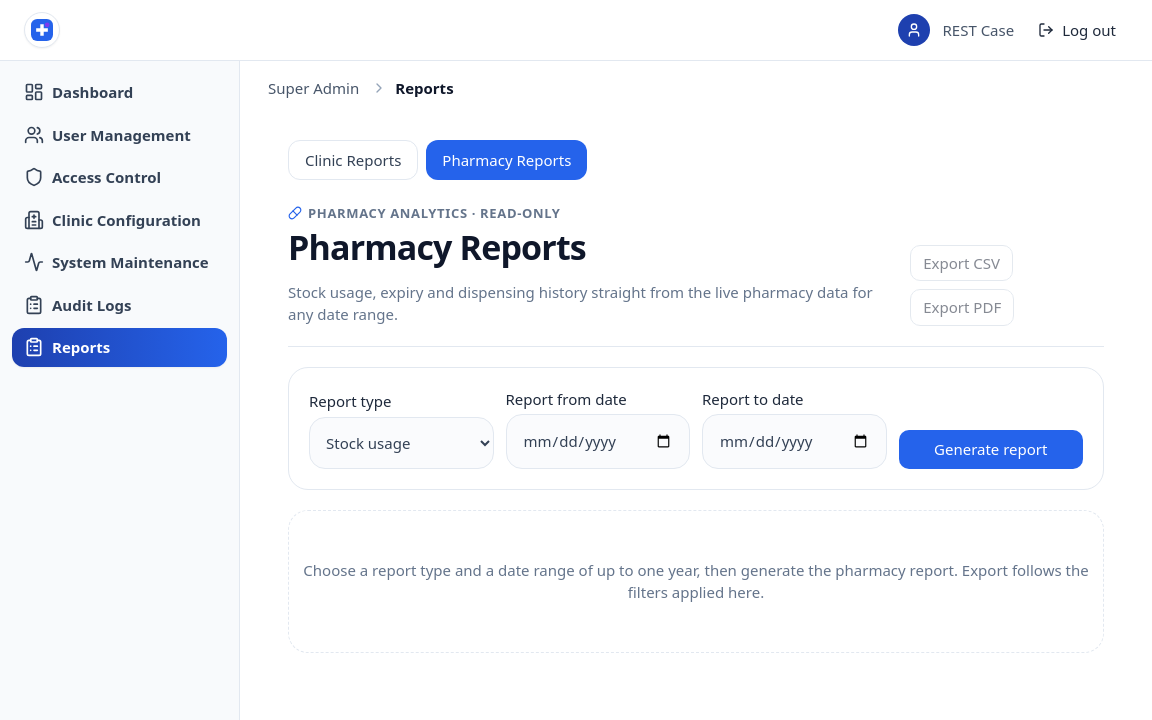
Scenario: pharmacy reports page — REST cases › generates the stock usage report with the applied filters
The image size is (1152, 720).
Type "2026-10-01" into the date field labelled "Report from date" at [598, 441], box [506, 414, 690, 469]
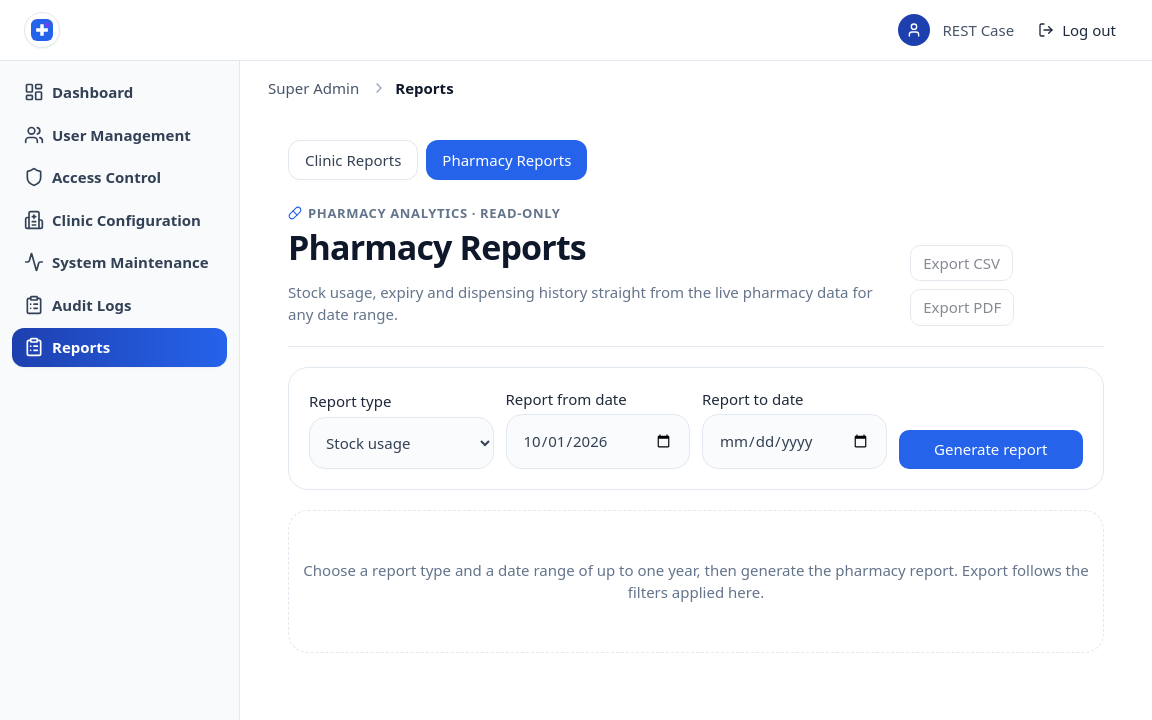
Type "2026-10-18" into the date field labelled "Report to date" at [794, 441], box [702, 414, 886, 469]
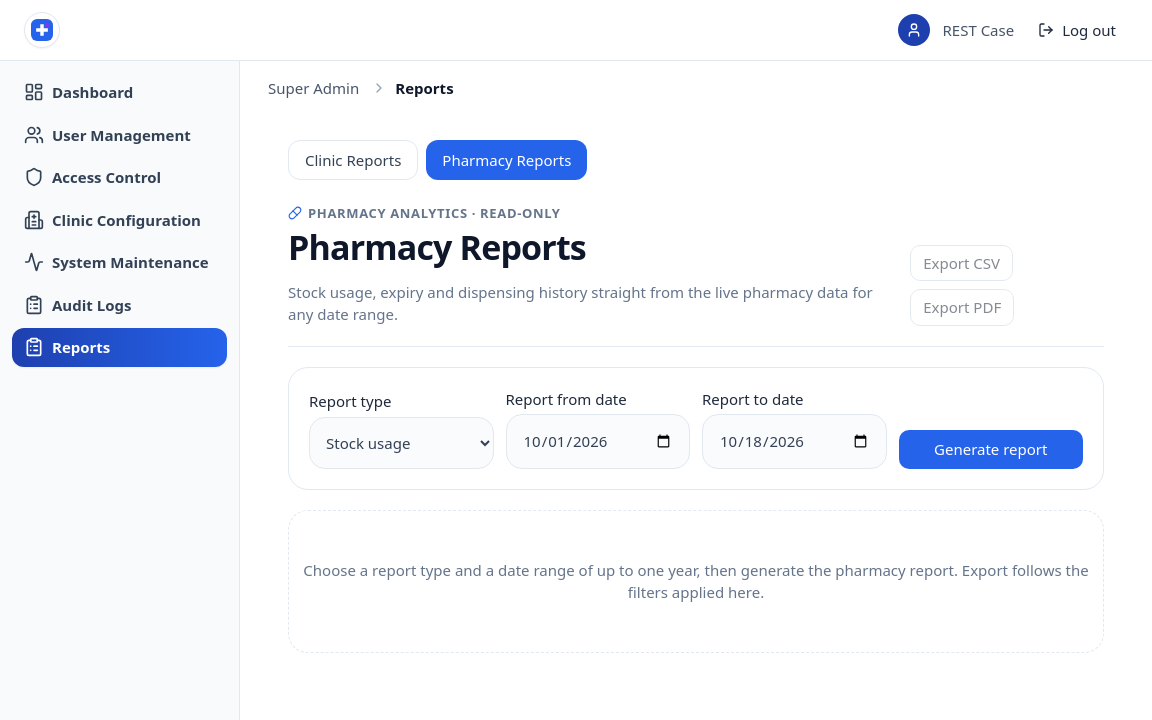
Click the button "Generate report" at [991, 449], box [898, 430, 1083, 469]
(page scrolled)
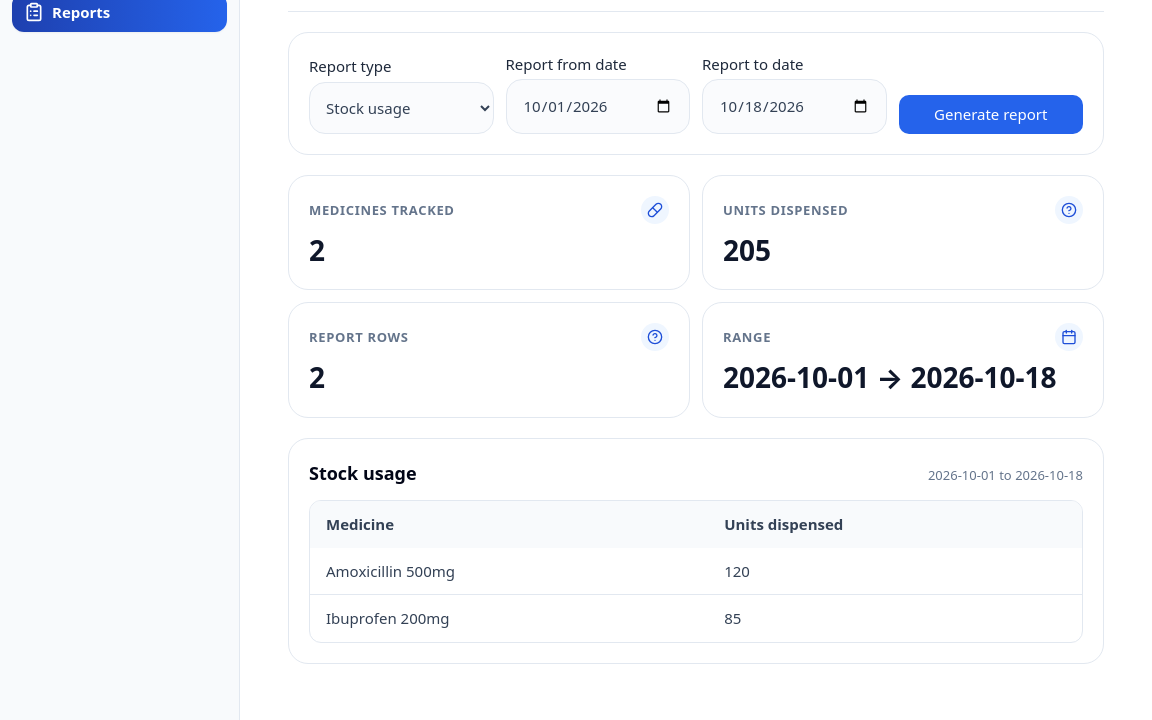
Expected: the text "Amoxicillin 500mg" is shown, [310, 548, 708, 595]
Expected: the text "120" is shown, [708, 548, 1082, 595]
